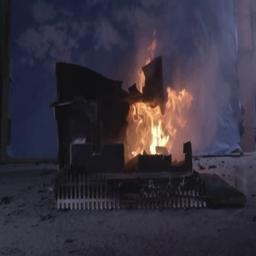fire: (124, 74, 190, 167)
